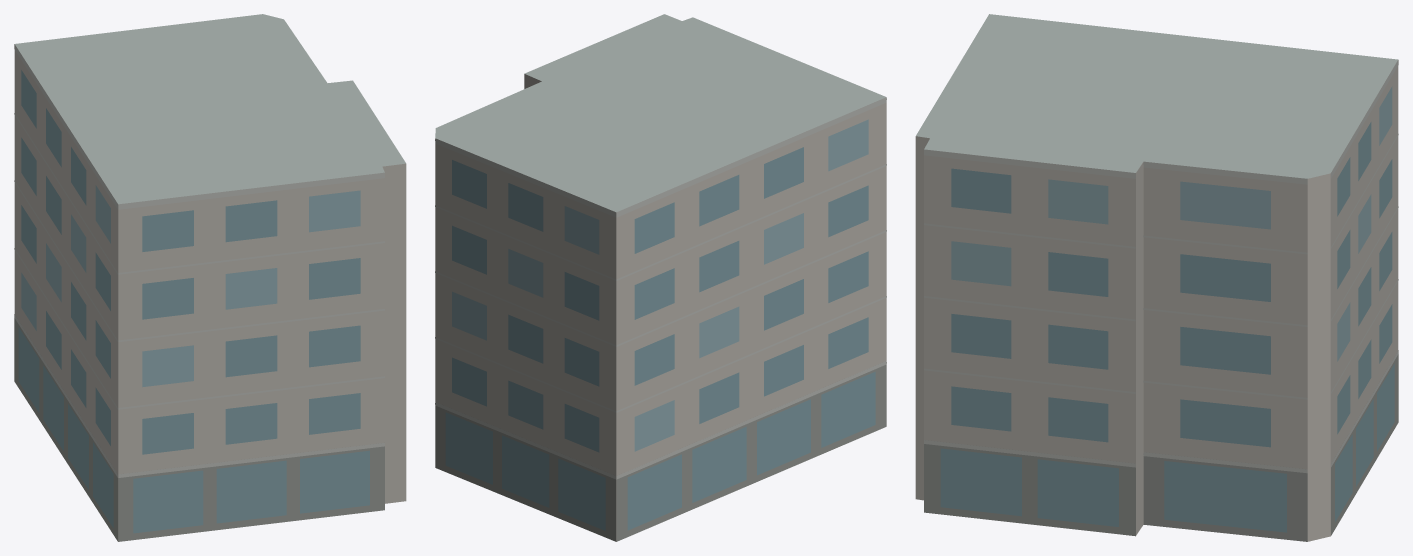
File: survey-upis-32688457.glb
The picture shows the model from 3 angles, left to right: view 1: azimuth 30°, elevation 25°; view 2: azimuth 150°, elevation 25°; view 3: azimuth 270°, elevation 25°; orthographic projection. The views are drawn at different scales.
Visible parts, largest first — view 1: survey-upis-32688457.tmp; view 2: survey-upis-32688457.tmp; view 3: survey-upis-32688457.tmp.
Part boxes in pixels (x1,y1,x2,y2): survey-upis-32688457.tmp: (14,14,406,541); survey-upis-32688457.tmp: (435,14,886,541); survey-upis-32688457.tmp: (915,14,1398,541).
Bounding box in the file's own units: 14.57 × 14.95 × 18.04.
